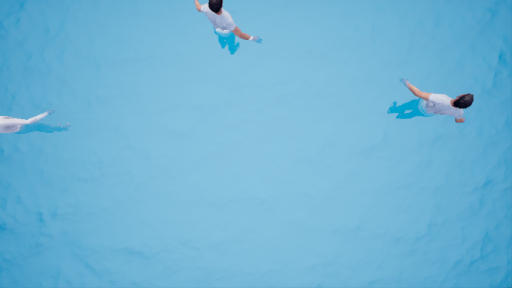person: (383, 75, 480, 128), (188, 1, 263, 64), (1, 112, 77, 140)
